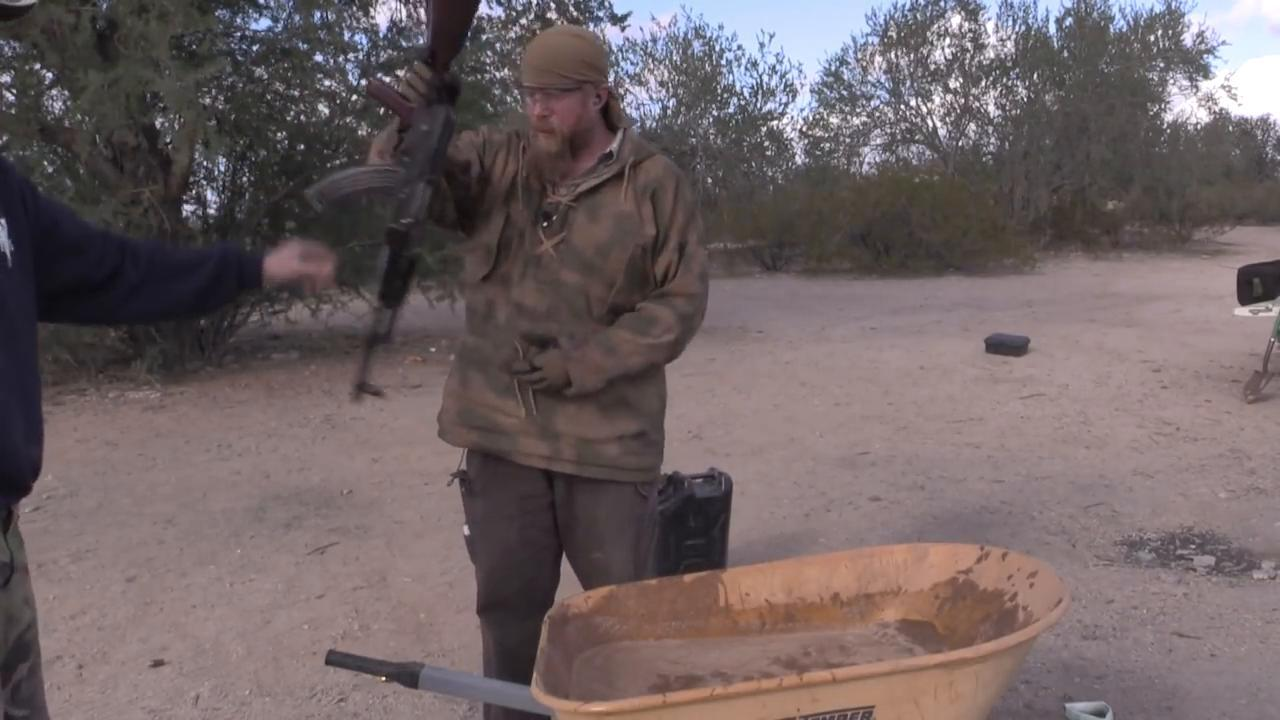AK47 Rifle: (300, 3, 481, 407)
